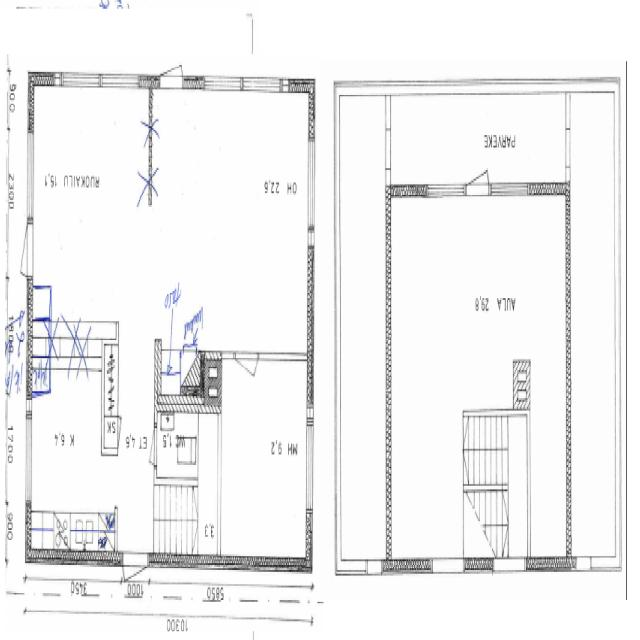door: (123, 558, 148, 634), (465, 128, 489, 196), (159, 24, 182, 94), (2, 223, 31, 278), (235, 351, 258, 413), (138, 427, 158, 467)
